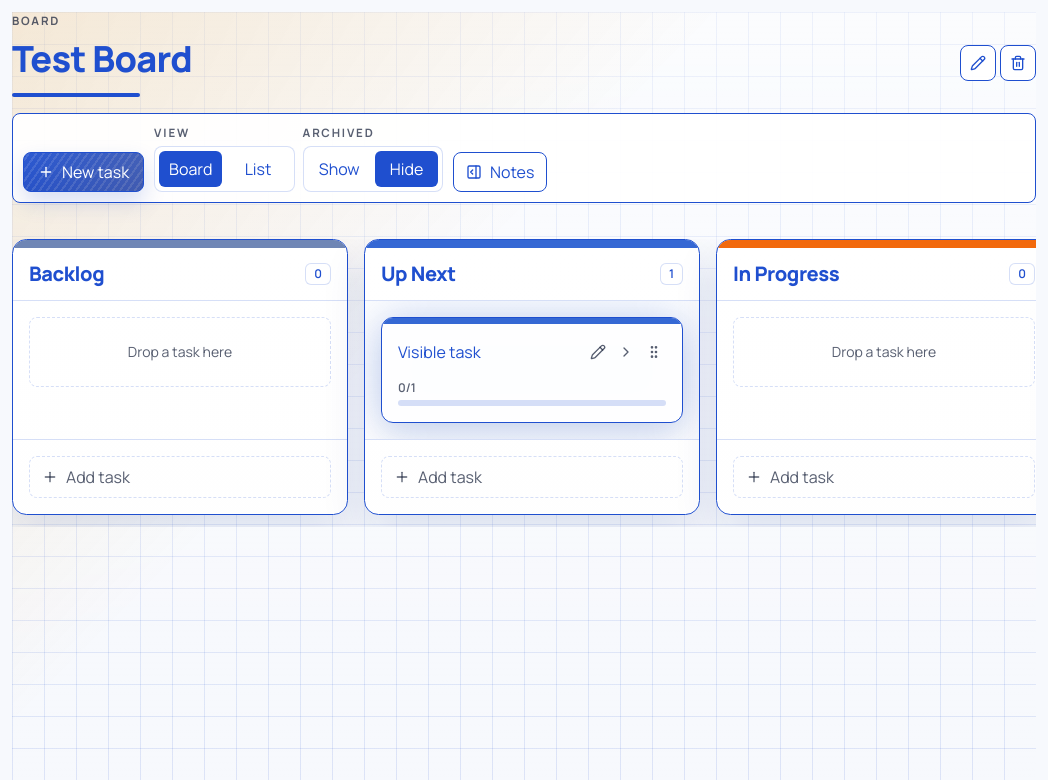
it: SubtasksCardPanel remove and reorder › reverts a failed subtask removal and shows an error
The width and height of the screenshot is (1048, 780).
Click the button named "Open subtasks menu" at (626, 352), box [614, 340, 638, 364]
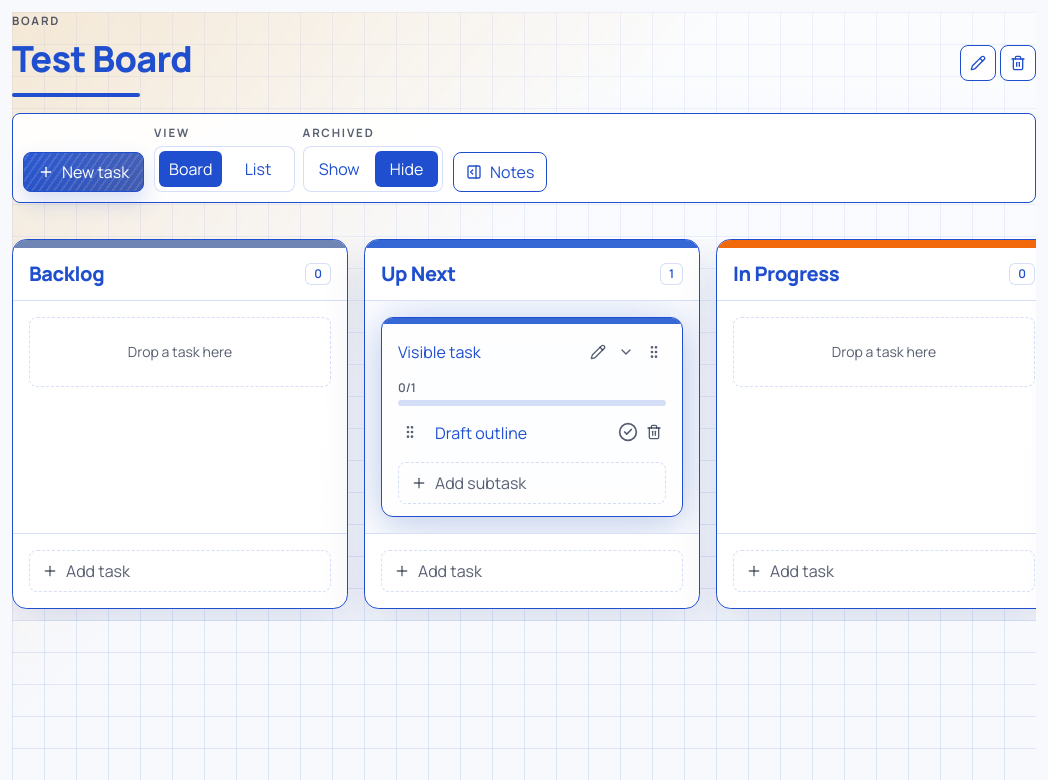
Check: the text box showing "Draft outline" is shown, box [426, 416, 610, 448]
Click the button named "Remove subtask" at (654, 432), box [646, 424, 662, 440]
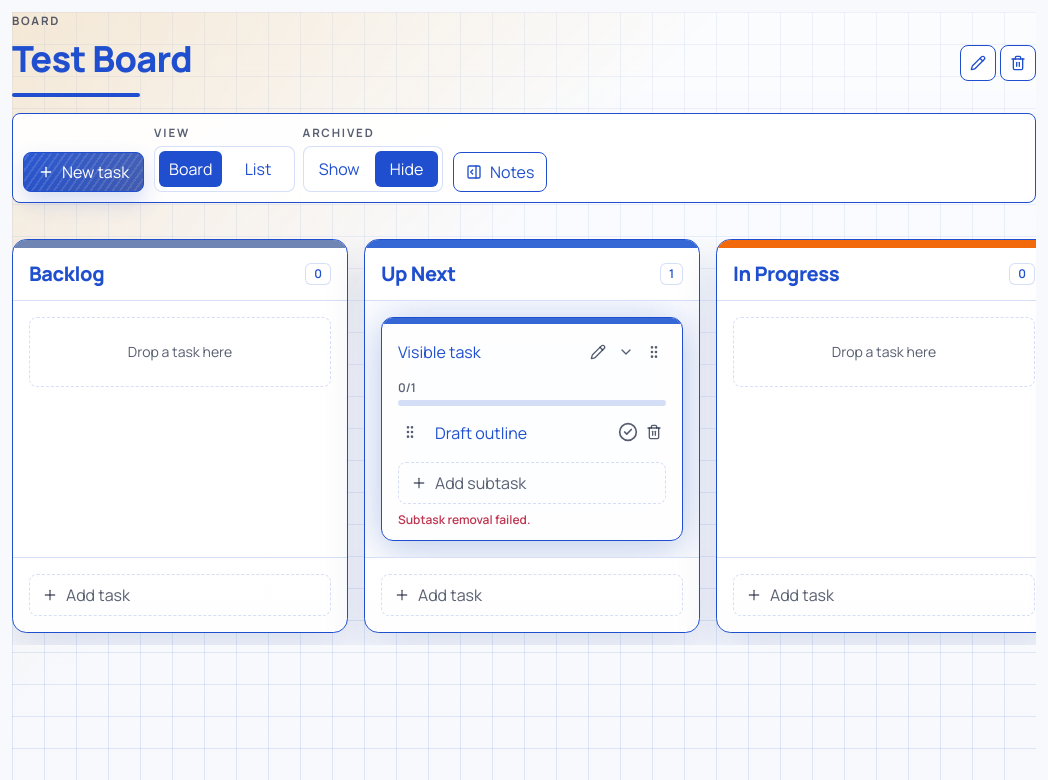
Check: the text box showing "Draft outline" is shown, box [426, 416, 610, 448]
Check: the message reads "Subtask removal failed.", box [398, 510, 530, 528]
